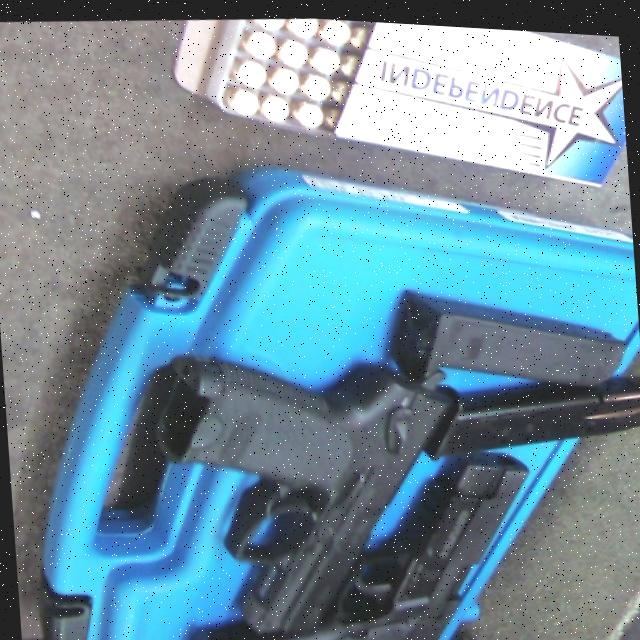pistol: (158, 339, 459, 640), (164, 440, 549, 640)
